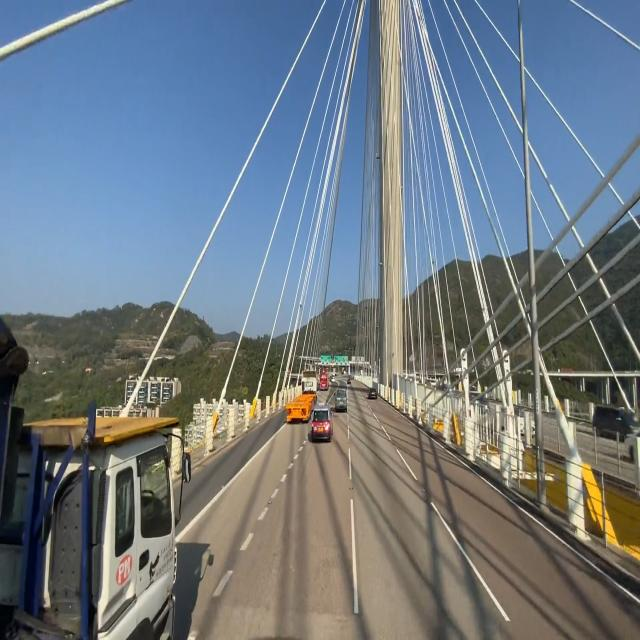Car: (284, 364, 317, 428), (310, 401, 332, 447), (334, 384, 349, 413)
